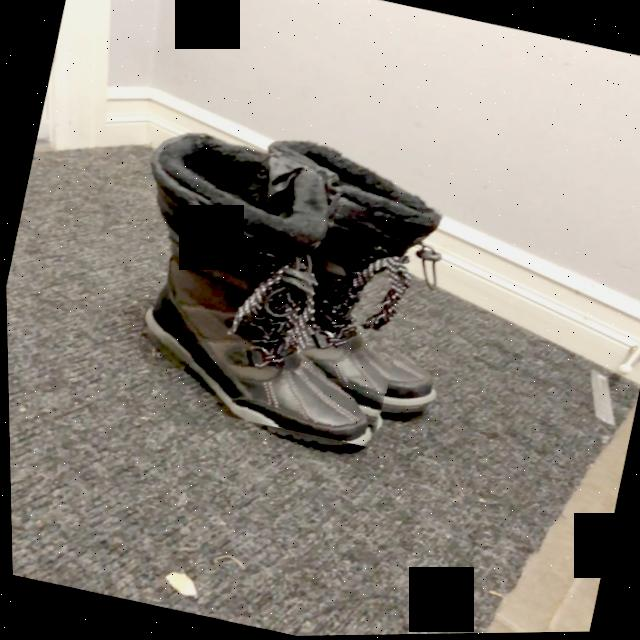shoe: (140, 245, 373, 444)
